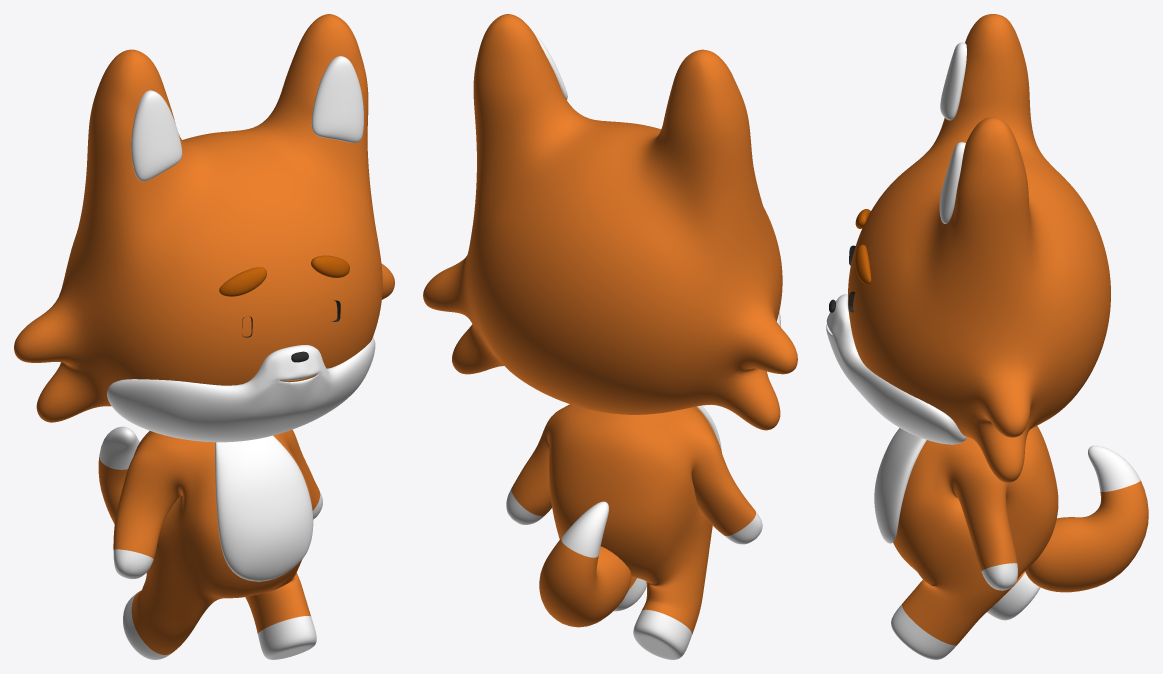
The model's file is fox_rig_finished_walk_cycle_progressive_stop.fbx.
3 renders of one model, left to right at view 1: azimuth 30°, elevation 25°; view 2: azimuth 150°, elevation 25°; view 3: azimuth 270°, elevation 25°, orthographic. The views are drawn at different scales.
Parts seen in each view (by area): view 1: Fox, eyebrow.R., eyebrow.L.; view 2: Fox; view 3: Fox, eyebrow.L..
Part boxes in pixels (x1,y1,x2,y2): Fox: [14, 14, 394, 659]; eyebrow.R.: [219, 267, 266, 296]; eyebrow.L.: [311, 255, 349, 277]; Fox: [423, 14, 797, 659]; Fox: [826, 14, 1148, 659]; eyebrow.L.: [855, 244, 871, 284].
Bounding box in the file's own units: 69.31 × 109 × 54.05.
